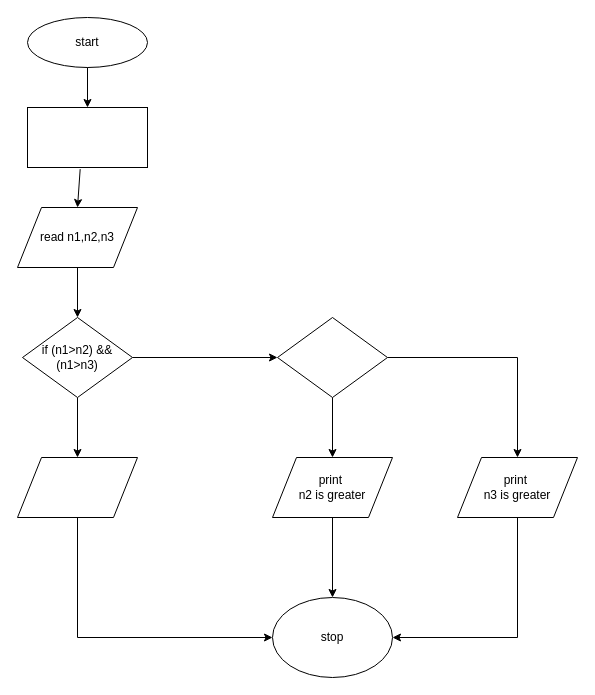
This 595x695 diagram has some shape labels left out. The box of each missing label's shape, as (x1, y1, x2, y2) in pixels:
declare n1,n2,n3: (26, 106, 148, 168)
if (n2>n3) && (n1>n1): (276, 316, 388, 398)
print n1 is greater: (16, 456, 138, 518)
